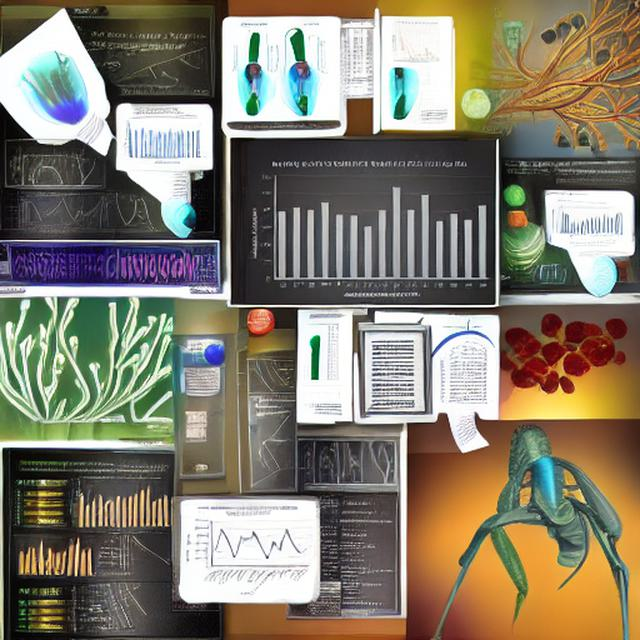Graph: (246, 155, 496, 305), (182, 504, 313, 598), (67, 474, 172, 537), (120, 114, 208, 166), (17, 191, 87, 240), (387, 19, 447, 64), (553, 204, 612, 239)
